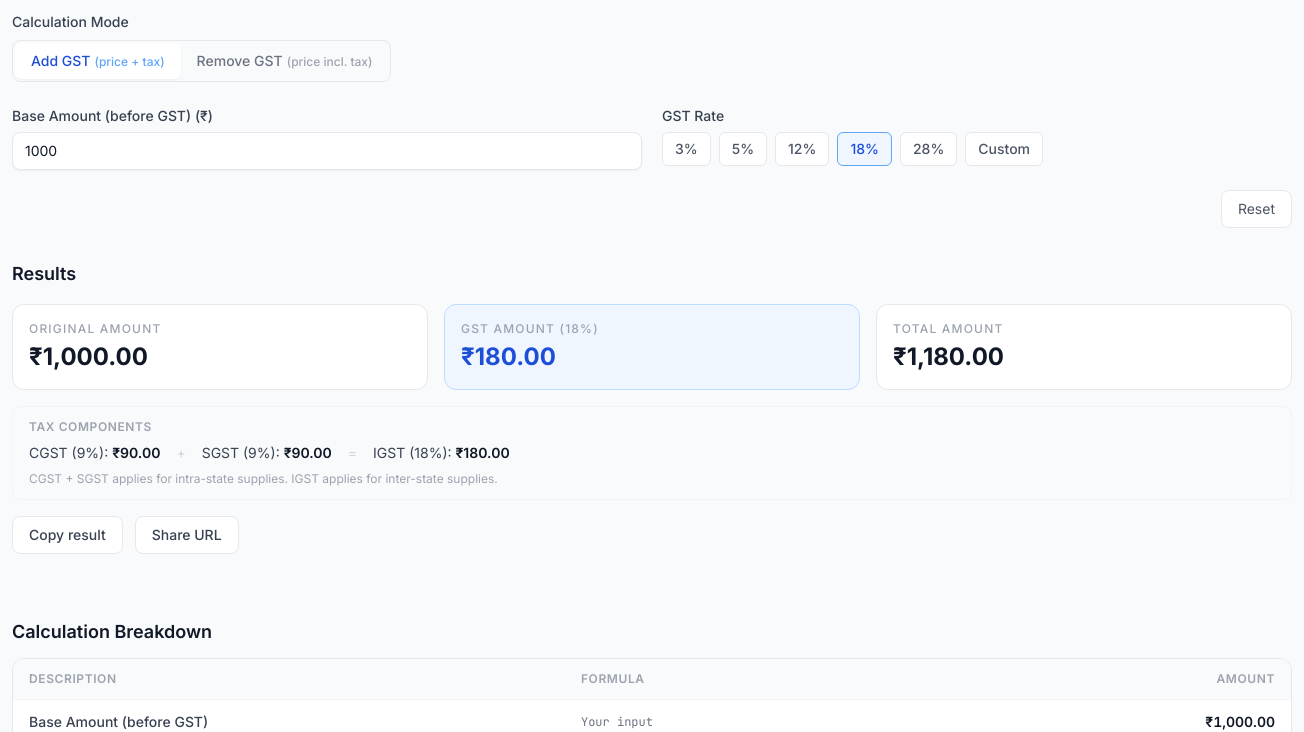
Scenario: GSTCalculator › shows error when amount is 0
Replace the text in the number field labelled "Base Amount (before GST) (₹)" with "0" at (327,151), box x1=12 y1=132 x2=642 y2=170
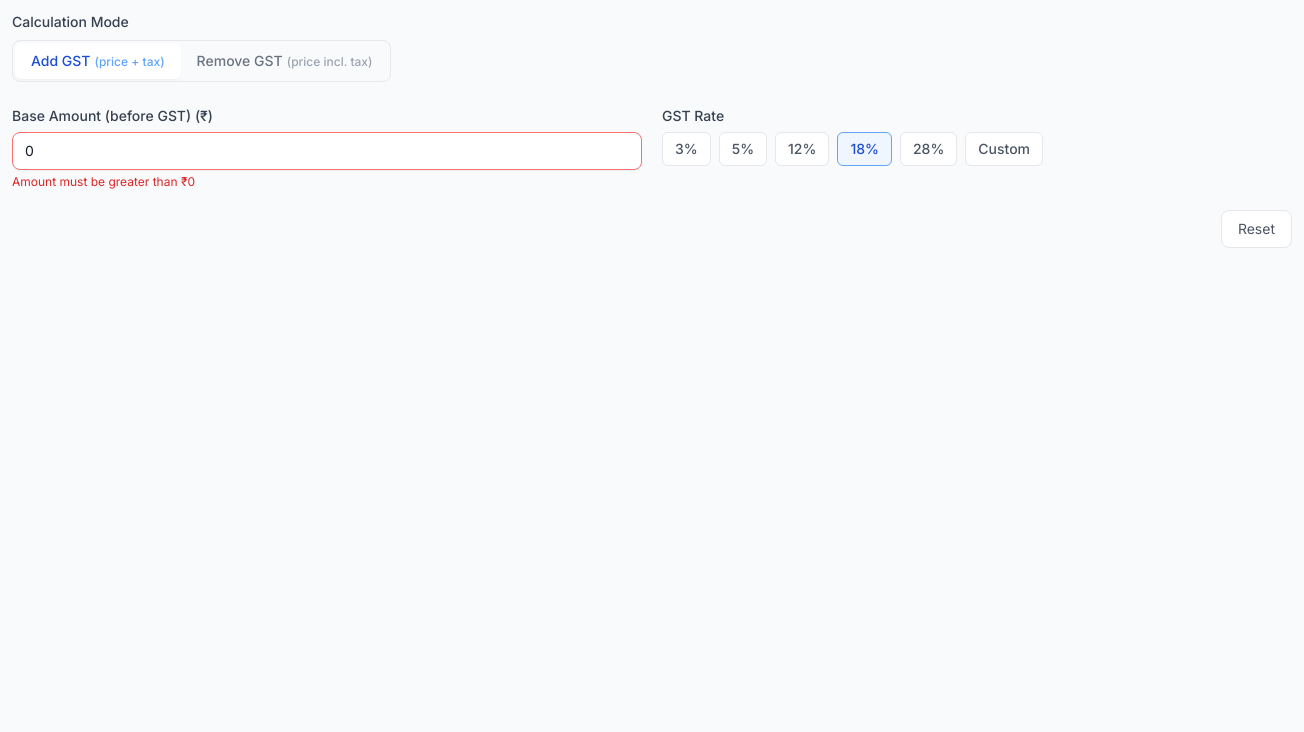
Result: the text "Amount must be greater than ₹0" is shown at x1=12 y1=174 x2=195 y2=189
